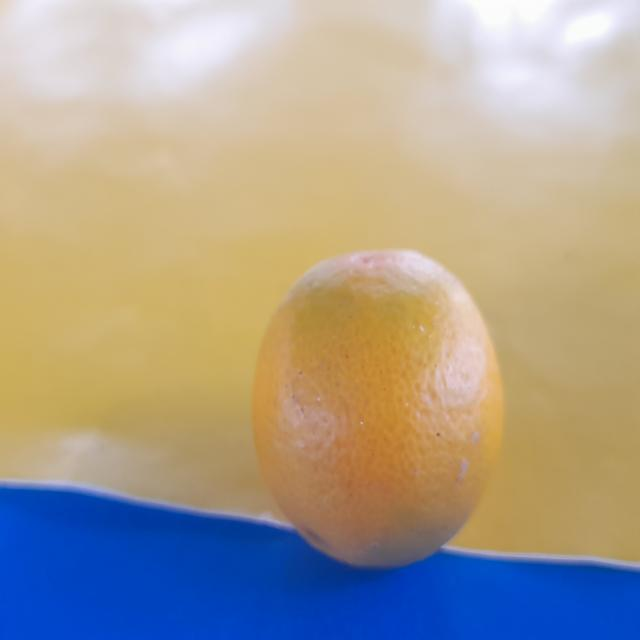greening: (242, 243, 506, 574)
